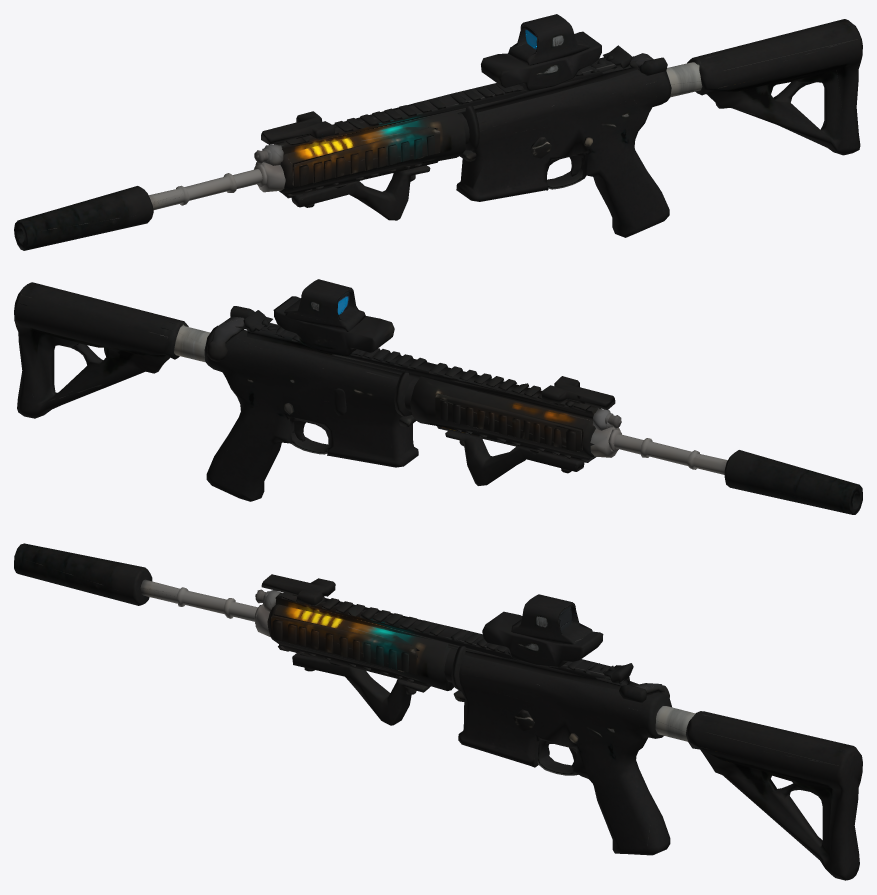
File: arma-fusil.glb
The picture shows the model from 3 angles, top to bottom: view 1: azimuth 30°, elevation 25°; view 2: azimuth 150°, elevation 25°; view 3: azimuth 330°, elevation 25°; orthographic projection.
Parts seen in each view (by area): view 1: geometry_0; view 2: geometry_0; view 3: geometry_0.
Boxes of the visible parts, <box> form: geometry_0: <box>14,14,862,250</box>; geometry_0: <box>14,279,862,514</box>; geometry_0: <box>14,543,862,880</box>.
Bounding box in the file's own units: 1 × 0.2643 × 0.0689.
Materials: 1 (1 with a texture image).
